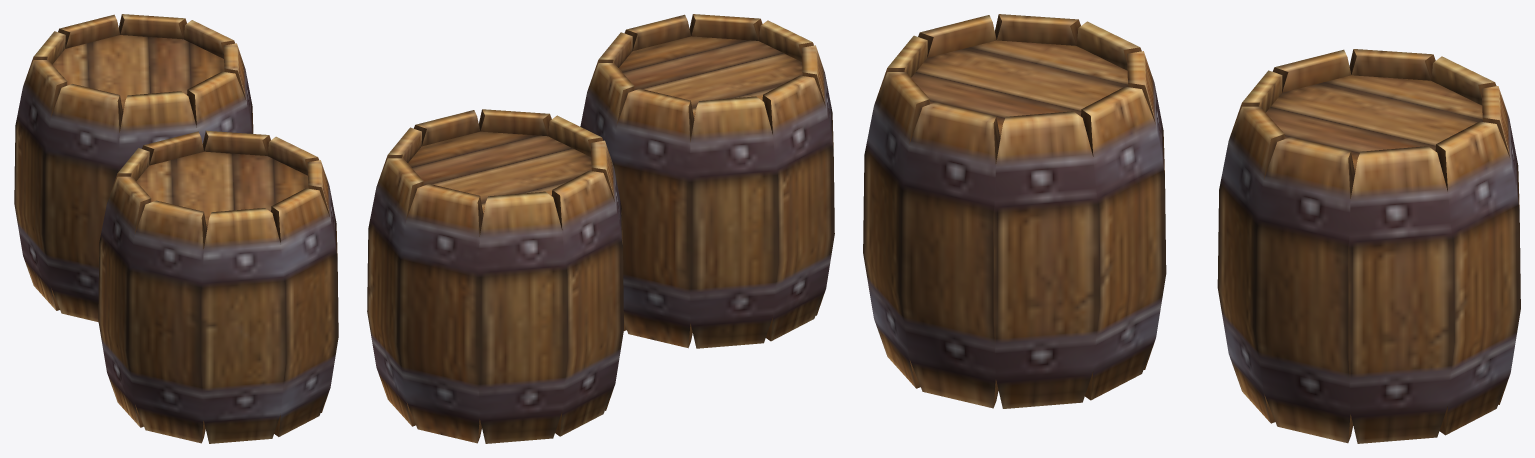
File: Area_07_32.fbx
3 renders of one model, left to right at view 1: azimuth 30°, elevation 25°; view 2: azimuth 150°, elevation 25°; view 3: azimuth 270°, elevation 25°, orthographic. The views are drawn at different scales.
Visible parts, largest first — view 1: Area_07_32; view 2: Area_07_32; view 3: Area_07_32.
Part boxes in pixels (x1=…): Area_07_32: x1=14, y1=14, x2=338, y2=443; Area_07_32: x1=367, y1=14, x2=834, y2=443; Area_07_32: x1=863, y1=14, x2=1520, y2=443.
Bounding box in the file's own units: 142 × 114 × 239.
